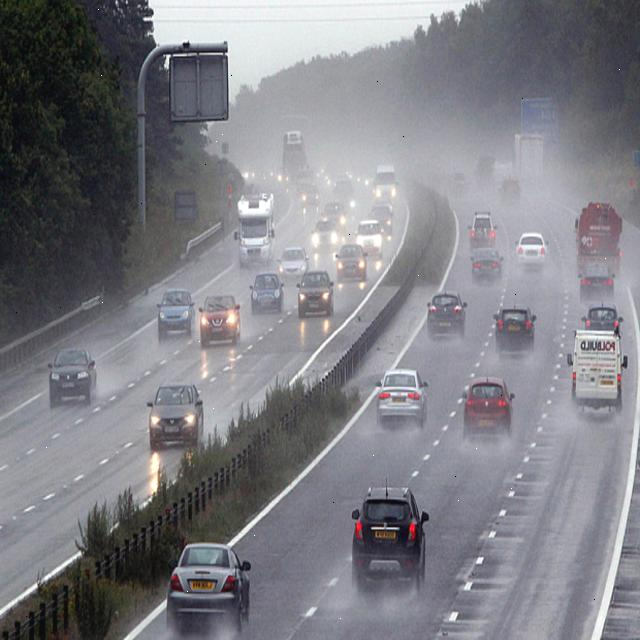Car: (350, 480, 429, 592), (166, 540, 250, 638), (147, 381, 205, 451), (460, 375, 514, 440), (375, 366, 428, 428), (48, 346, 96, 406), (200, 294, 242, 347), (156, 288, 196, 341), (494, 302, 536, 352), (425, 290, 467, 339), (296, 269, 336, 319), (248, 273, 283, 317), (334, 242, 368, 284), (514, 230, 548, 270), (354, 218, 384, 261), (469, 211, 497, 254), (471, 247, 503, 284), (278, 245, 309, 282), (243, 183, 273, 218), (437, 159, 470, 190), (310, 217, 338, 253), (332, 174, 357, 212), (368, 204, 393, 238), (322, 200, 346, 231), (275, 163, 299, 193), (312, 165, 336, 193), (295, 168, 316, 199), (358, 171, 381, 195), (475, 154, 494, 182), (500, 176, 521, 201), (300, 182, 320, 208), (241, 169, 260, 192), (450, 171, 467, 196), (342, 196, 356, 223), (628, 183, 640, 206), (342, 170, 354, 188), (350, 200, 355, 208)
Truck: (568, 312, 628, 411), (574, 200, 624, 300), (236, 190, 276, 268), (514, 133, 545, 182), (282, 130, 306, 180), (372, 163, 397, 204), (492, 159, 514, 186)
